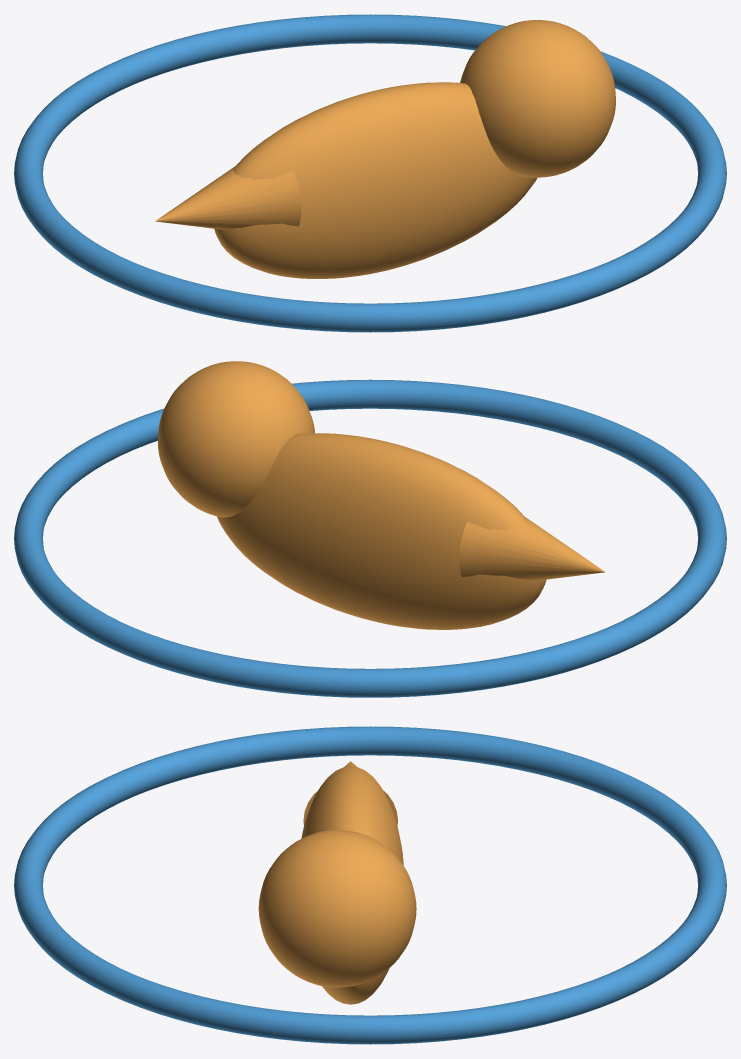
File: bio-p1-organism.glb
3 renders of one model, top to bottom at view 1: azimuth 30°, elevation 25°; view 2: azimuth 150°, elevation 25°; view 3: azimuth 270°, elevation 25°, orthographic.
Visible parts, largest first — view 1: individual-focus-ring, single-organism-individual-body, single-organism-individual-head, single-organism-individual-tail; view 2: individual-focus-ring, single-organism-individual-body, single-organism-individual-head, single-organism-individual-tail; view 3: individual-focus-ring, single-organism-individual-head, single-organism-individual-body.
Part boxes in pixels (x1,y1,x2,y2): individual-focus-ring: (14,14,726,332); single-organism-individual-body: (214,82,537,278); single-organism-individual-head: (460,20,615,177); single-organism-individual-tail: (155,166,301,229); individual-focus-ring: (14,379,726,697); single-organism-individual-body: (217,433,546,629); single-organism-individual-head: (157,361,314,517); single-organism-individual-tail: (459,517,605,580); individual-focus-ring: (14,726,726,1044); single-organism-individual-head: (258,830,416,987); single-organism-individual-body: (301,766,403,1004).
Size of what is drawn, in the model's own units: 1.08 by 0.3509 by 1.08.
